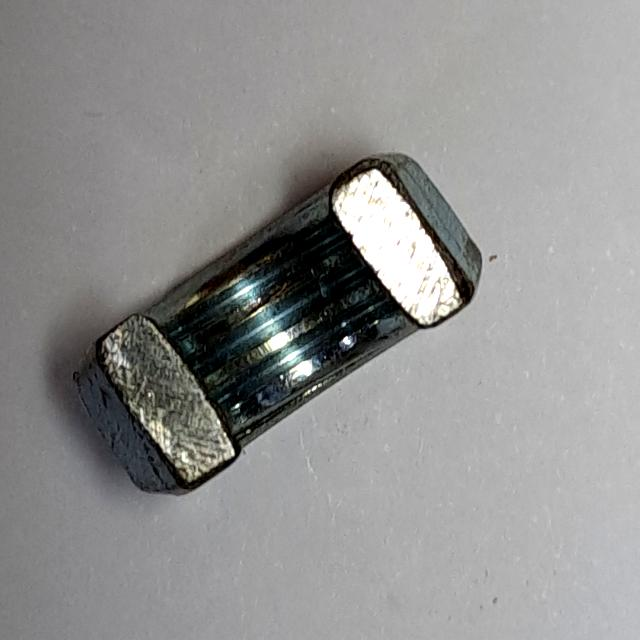Side-Fracture: (59, 137, 497, 516)
